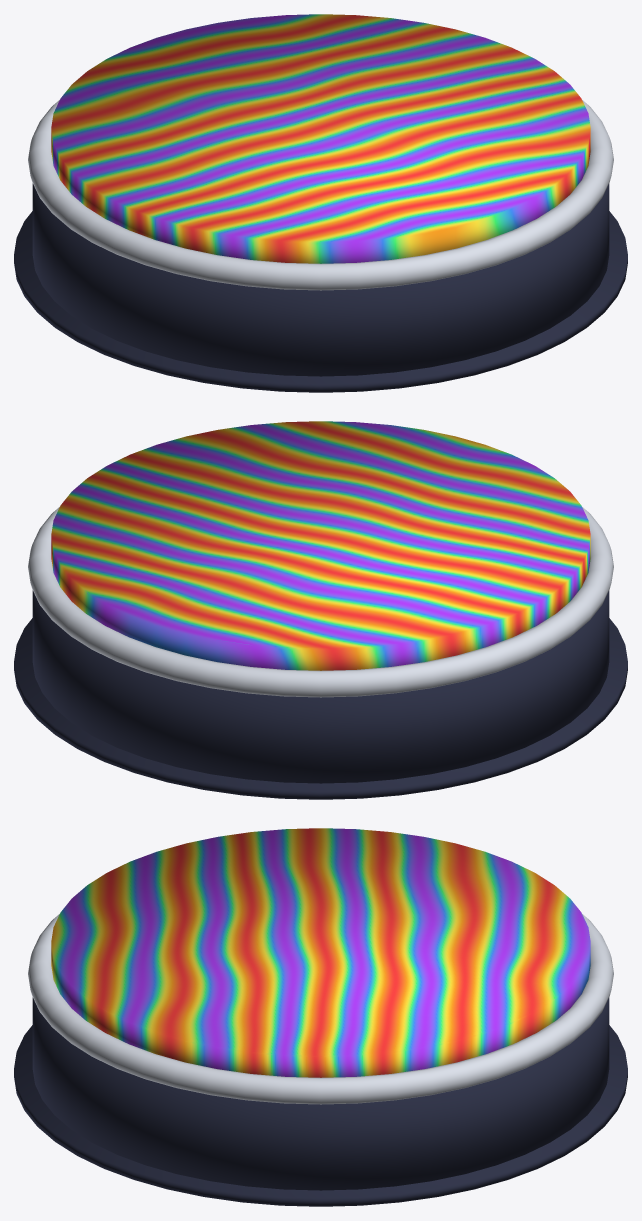
File: SM_Pedestal_Rainbow.fbx
The picture shows the model from 3 angles, top to bottom: view 1: azimuth 30°, elevation 25°; view 2: azimuth 150°, elevation 25°; view 3: azimuth 270°, elevation 25°; orthographic projection.
Visible parts, largest first — view 1: SM_Pedestal_Rainbow; view 2: SM_Pedestal_Rainbow; view 3: SM_Pedestal_Rainbow.
Part boxes in pixels (x1=…): SM_Pedestal_Rainbow: x1=14, y1=14, x2=627, y2=392; SM_Pedestal_Rainbow: x1=14, y1=421, x2=627, y2=799; SM_Pedestal_Rainbow: x1=14, y1=828, x2=627, y2=1206.
Size of what is drawn, in the model's own units: 1.32 by 0.32 by 1.32.
Materials: 1 (1 with a texture image).
